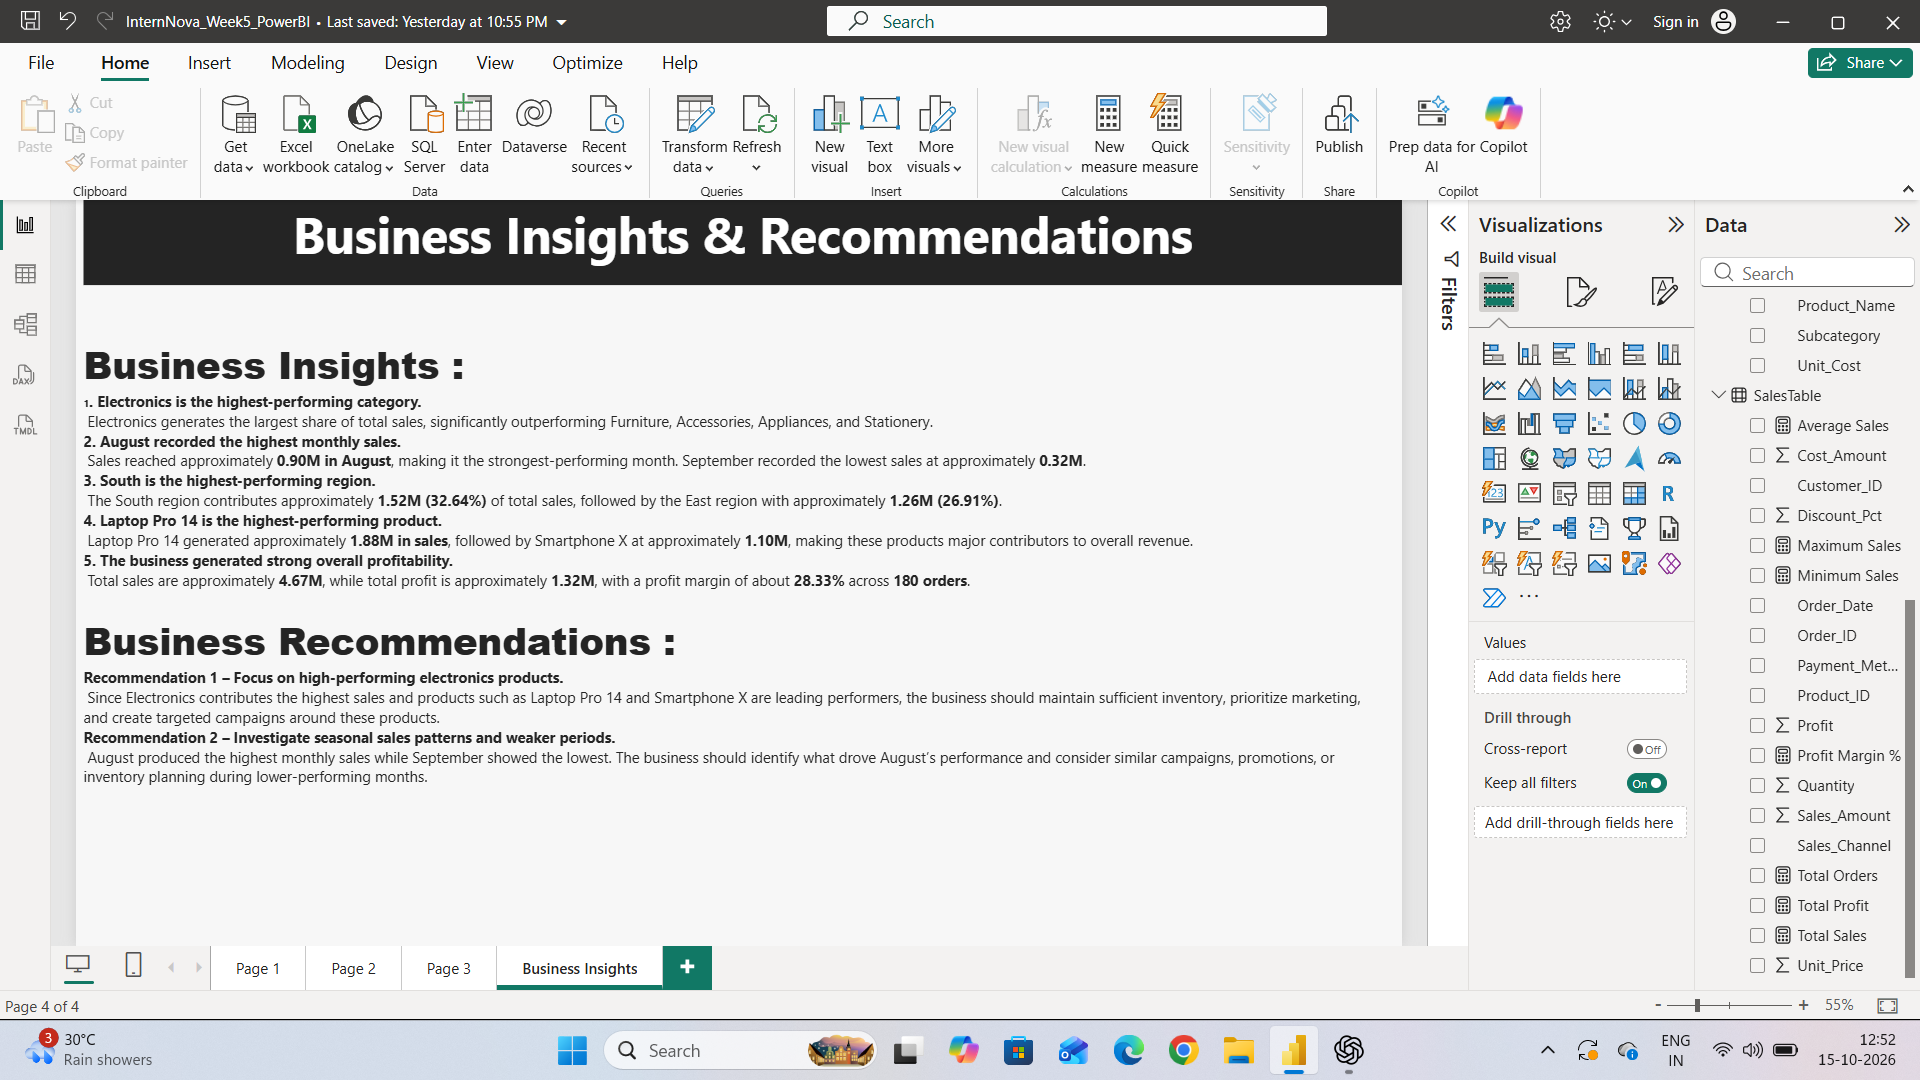

Layout of this report page (visuals, bound fields, positions):
{"tool":"powerbi","page":{"name":"Business Insights","canvas":[1920,1080],"ordinal":3},"visuals":[{"type":"textbox","box":[10.9,0,1909.2,123.1],"z":0},{"type":"textbox","box":[10.9,200.9,1909.2,389.1],"z":1000},{"type":"textbox","box":[10.9,600.8,1869.4,267.8],"z":2000}]}

Visuals, with their boxes on the page's 1920x1080 design canvas (x1, y1, x2, y2). These are canvas units, not pixel positions in the 1920x1080 screenshot, which may show the page scaled, cropped or inside an application window:
textbox: select_region(11, 0, 1920, 123)
textbox: select_region(11, 201, 1920, 590)
textbox: select_region(11, 601, 1880, 869)
